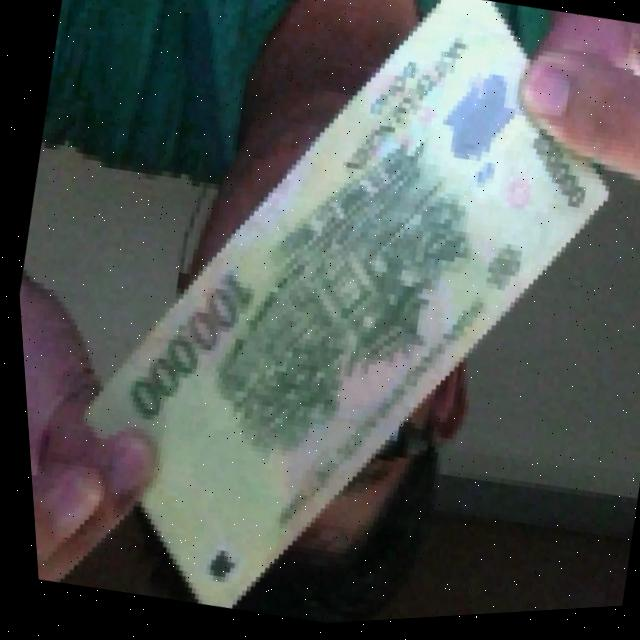100 000 VND: (16, 0, 640, 639)
